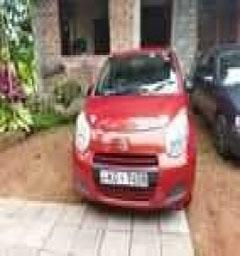car: (59, 26, 206, 223)
